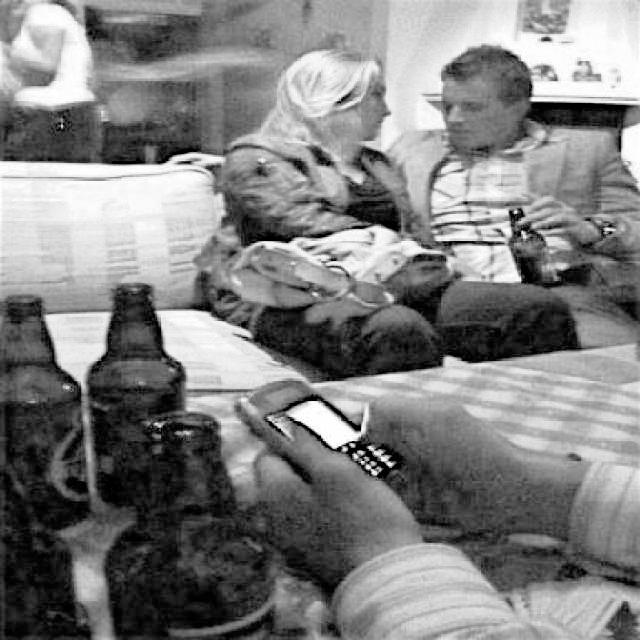Person: (194, 44, 577, 385), (371, 42, 640, 284)
